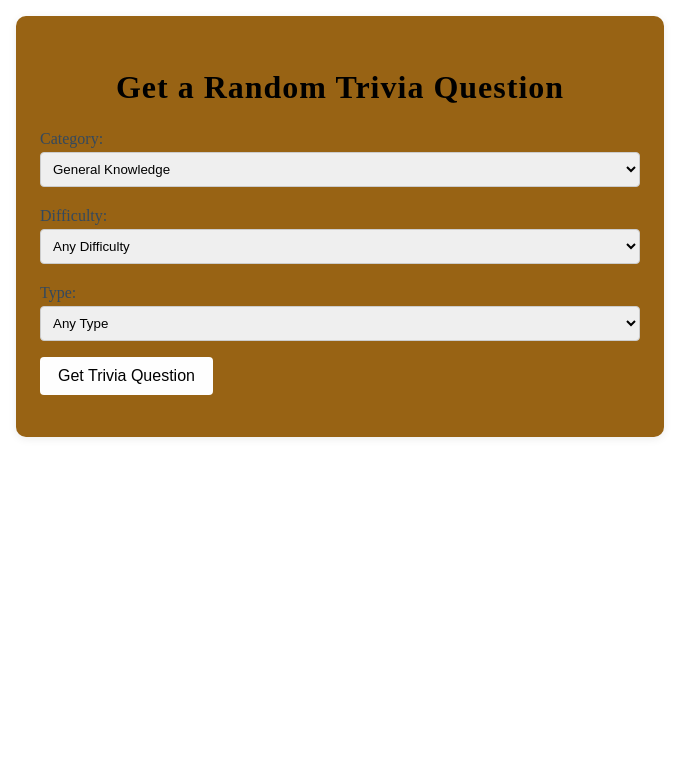
Test: Trivia Page › renders Get Trivia Question button and answer option buttons after fetching
The image size is (681, 768).
# Click the Get Trivia Question button
Click the button "Get Trivia Question". click: (126, 376)
box: x1=40 y1=357 x2=213 y2=395
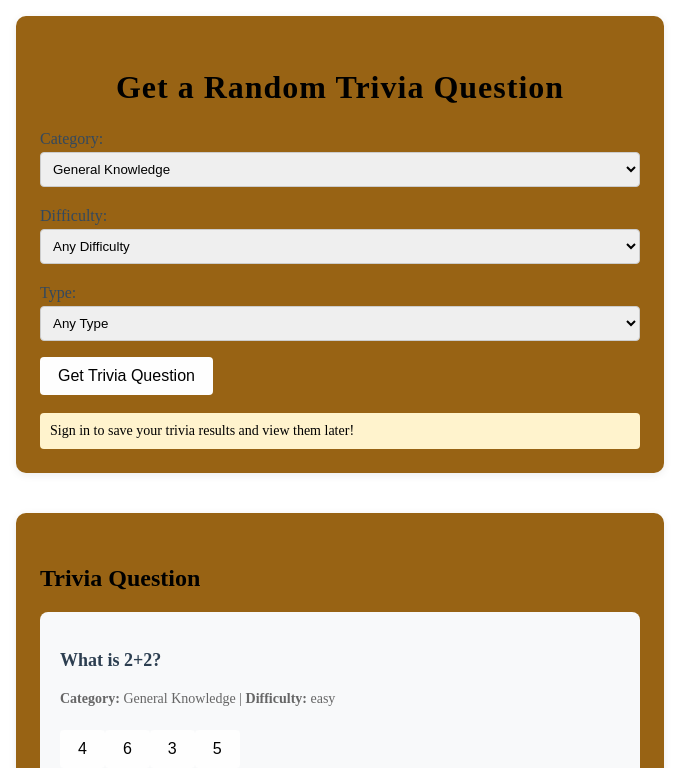
expect the text "What is 2+2?" is shown: met, box x1=60 y1=650 x2=161 y2=670
expect the button "4" is shown: met, box x1=60 y1=730 x2=105 y2=767
expect the button "3" is shown: met, box x1=150 y1=730 x2=195 y2=767
